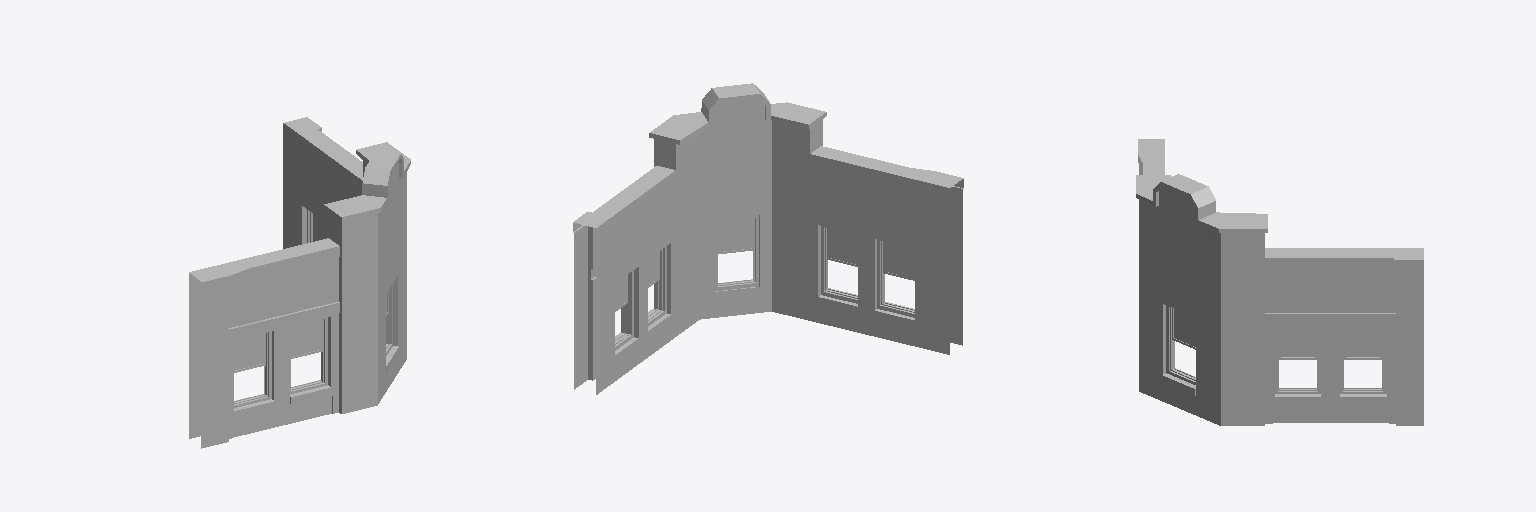
The model's file is Building_Top_Corner_B_LOD0.obj.
3 views of the same model, side by side, from view 1: azimuth 30°, elevation 25°; view 2: azimuth 150°, elevation 25°; view 3: azimuth 270°, elevation 25° (orthographic).
Parts seen in each view (by area): view 1: Building_Top_Corner_B_LOD0 Building_Top_Corner_B; view 2: Building_Top_Corner_B_LOD0 Building_Top_Corner_B; view 3: Building_Top_Corner_B_LOD0 Building_Top_Corner_B.
Boxes of the visible parts, x1=… form: Building_Top_Corner_B_LOD0 Building_Top_Corner_B: x1=189, y1=117, x2=410, y2=448; Building_Top_Corner_B_LOD0 Building_Top_Corner_B: x1=573, y1=83, x2=963, y2=394; Building_Top_Corner_B_LOD0 Building_Top_Corner_B: x1=1136, y1=139, x2=1423, y2=425.
Bounding box in the file's own units: 709 × 601 × 709.